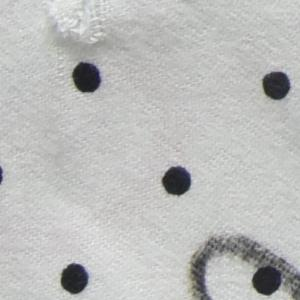Damage: (40, 1, 122, 52)
Stain: (189, 231, 300, 300)
